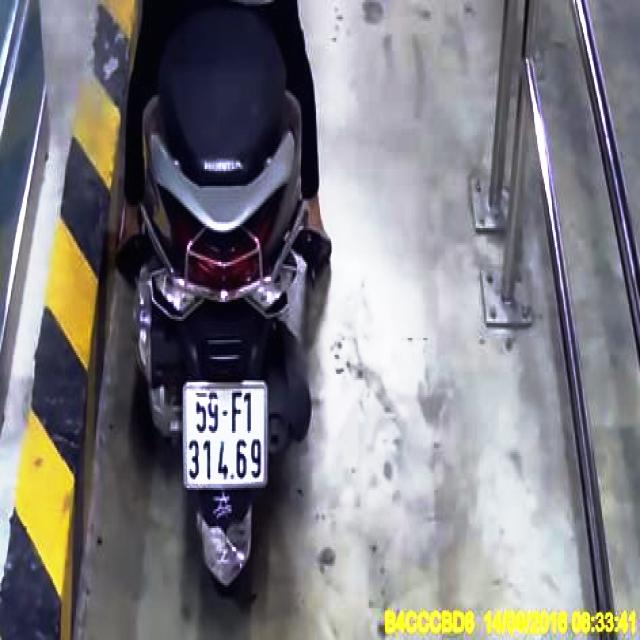license_plate: (183, 382, 269, 489)
